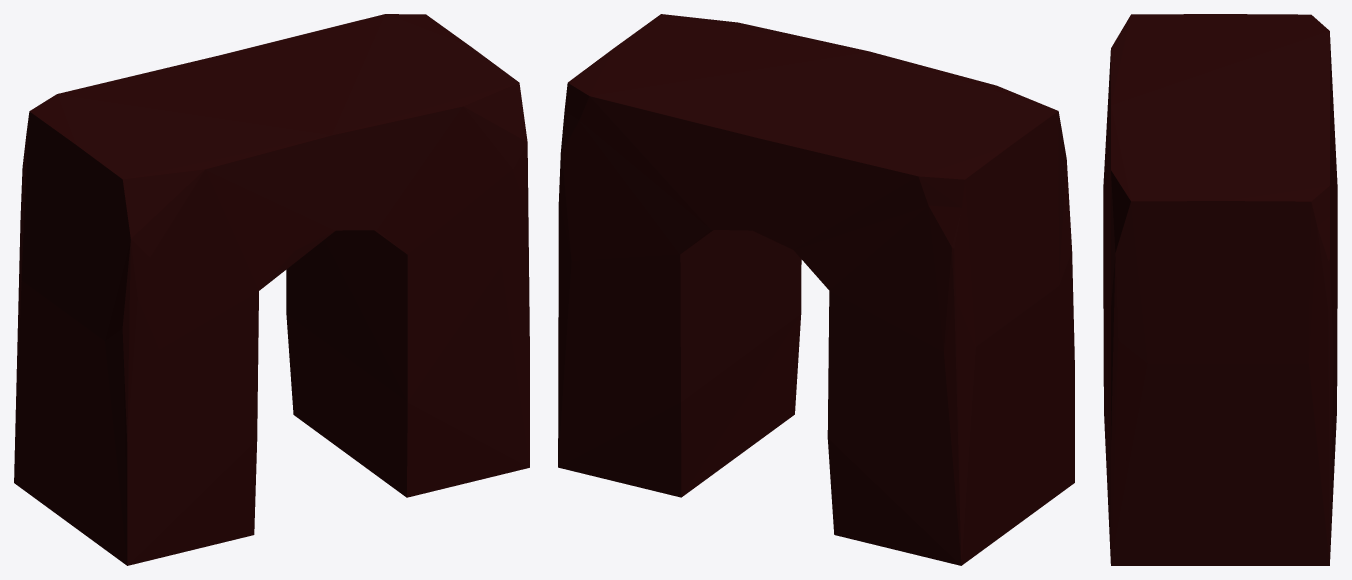
File: UCX_Big_Castle_Entrance_ALT.fbx
The picture shows the model from 3 angles, left to right: view 1: azimuth 30°, elevation 25°; view 2: azimuth 150°, elevation 25°; view 3: azimuth 270°, elevation 25°; orthographic projection. The views are drawn at different scales.
Visible parts, largest first — view 1: UCX_Big_Castle_Entrance_ALT; view 2: UCX_Big_Castle_Entrance_ALT; view 3: UCX_Big_Castle_Entrance_ALT.
Boxes of the visible parts, x1=… form: UCX_Big_Castle_Entrance_ALT: x1=14, y1=14, x2=529, y2=565; UCX_Big_Castle_Entrance_ALT: x1=558, y1=14, x2=1074, y2=565; UCX_Big_Castle_Entrance_ALT: x1=1103, y1=14, x2=1337, y2=565.
Bounding box in the file's own units: 997 × 886 × 512.
